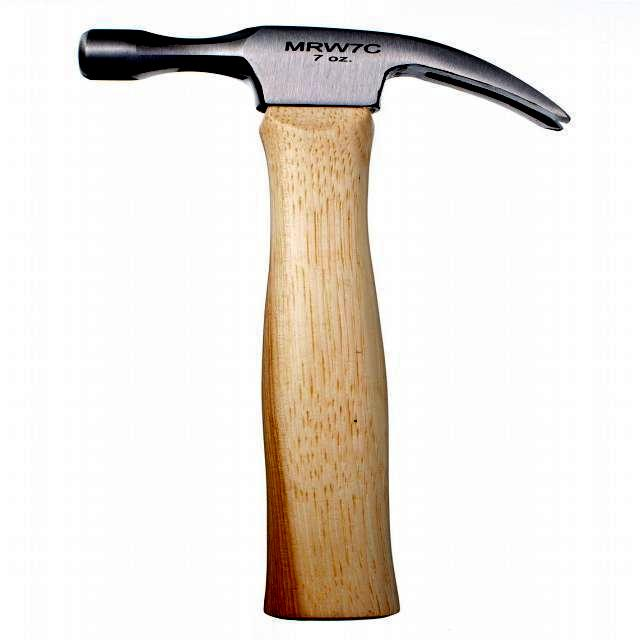hammer: (71, 19, 578, 625)
